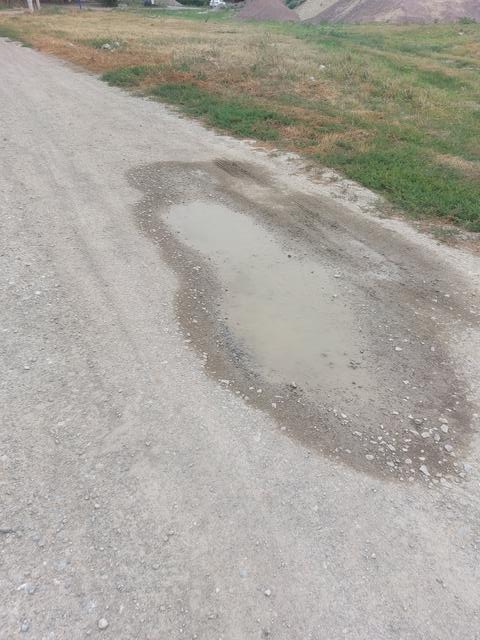pothole: (123, 148, 430, 442)
